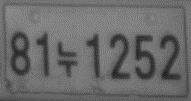1: (84, 32, 102, 80), (34, 30, 51, 77)
2: (158, 34, 183, 81), (108, 32, 131, 82)
5: (133, 33, 156, 80)
8: (9, 31, 31, 75)
누: (56, 40, 78, 80)
